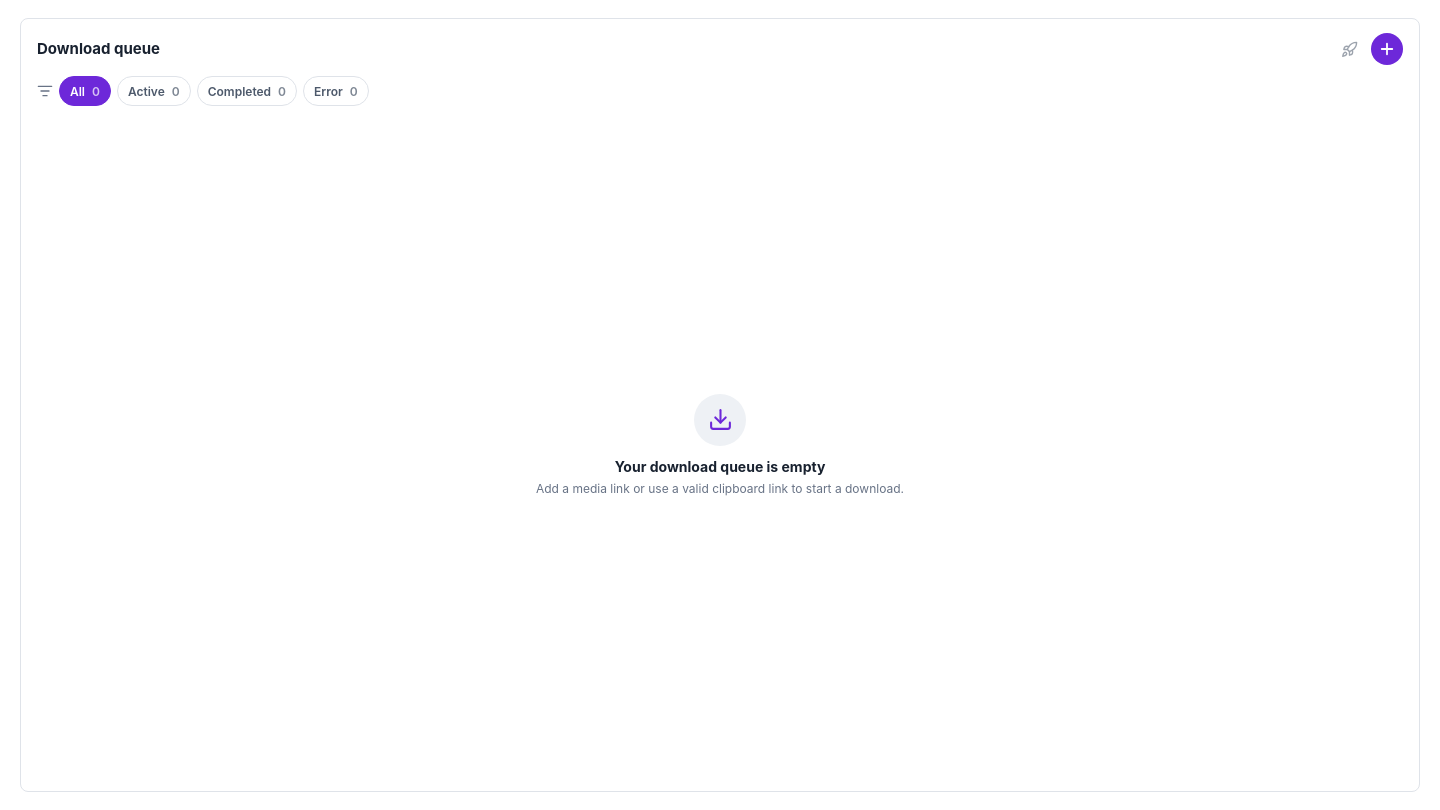
Vetch application contract › renders queue actions and opens the editable link dialog
Check: the heading "Enter video URL" is not shown
Check: the button named "Quick download from clipboard as Video" is disabled, box [1333,33,1365,65]
Click the button named "Add download" at (1387, 49), box [1371,33,1403,65]
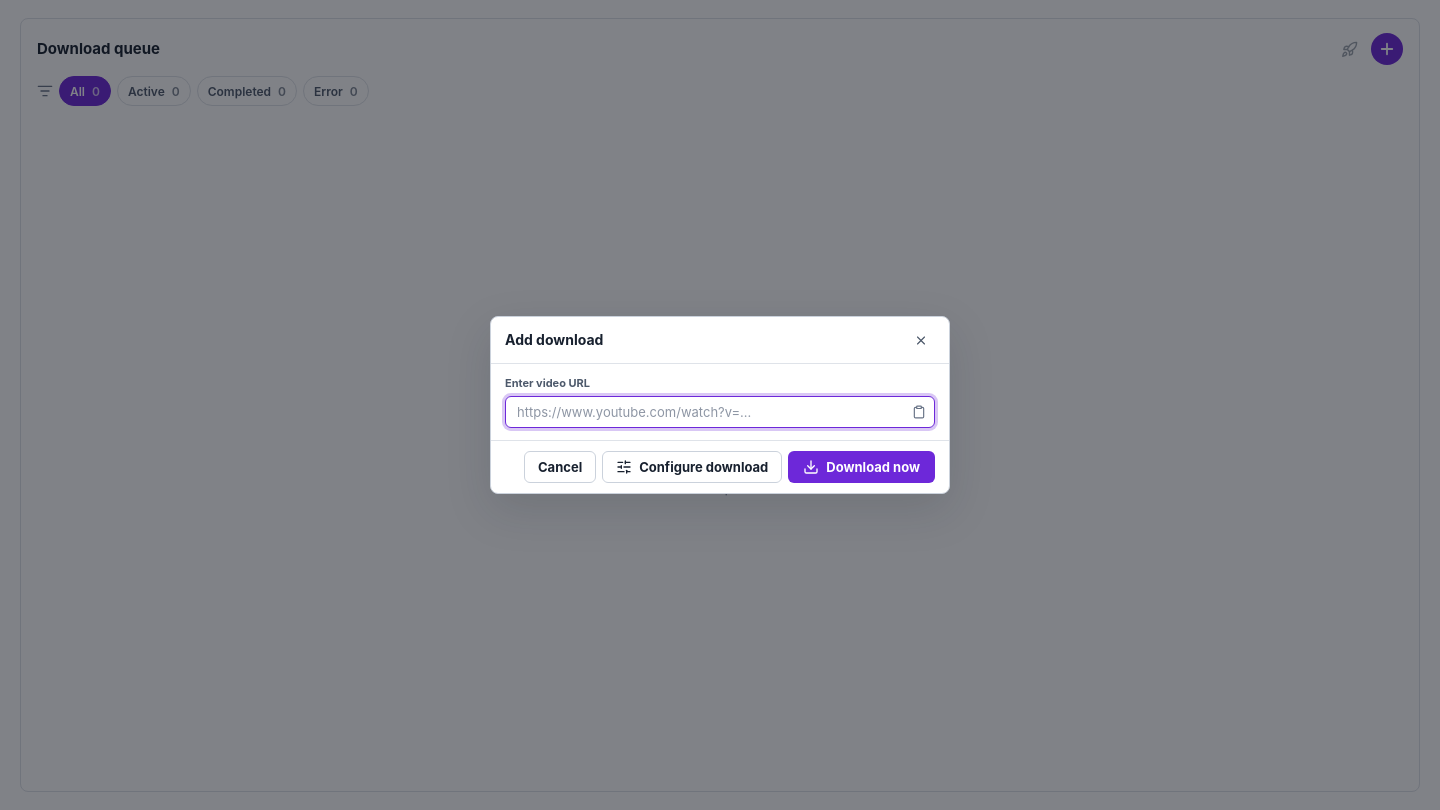
Check: the dialog "Add download" is shown
Check: the field labelled "Enter video URL" is shown, box [505,396,935,428]
Check: the button named "Paste" is empty, box [906,399,932,425]
